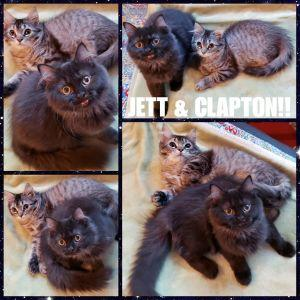persian: (38, 37, 113, 118)
